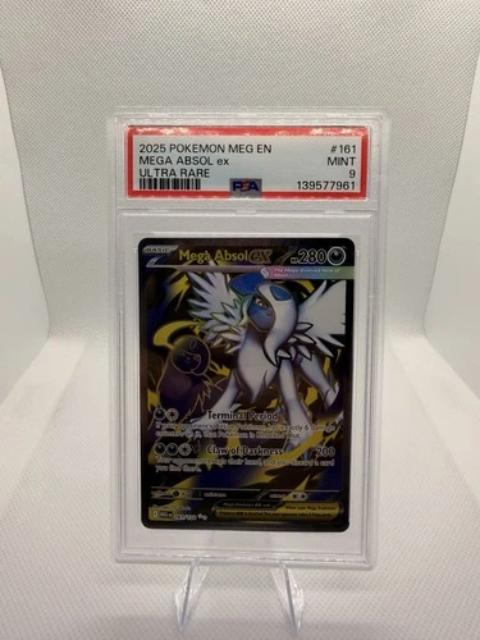Card: (134, 233, 360, 537)
Name: (174, 247, 277, 269)
